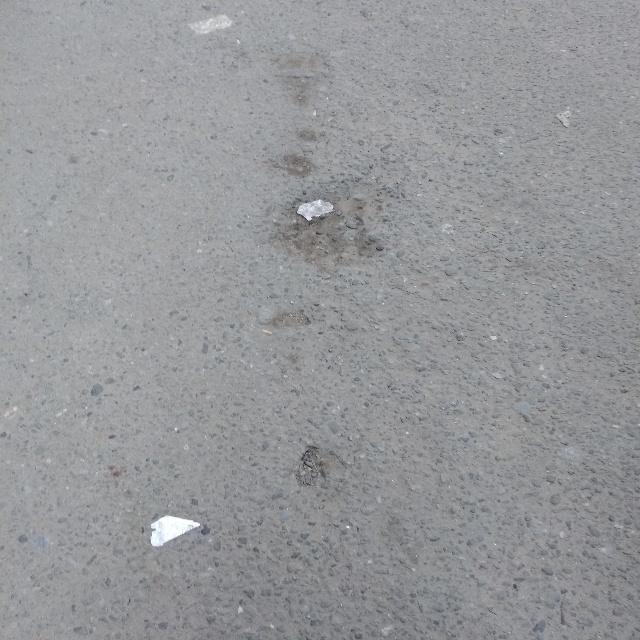Surface Erosion: (188, 32, 509, 417)
